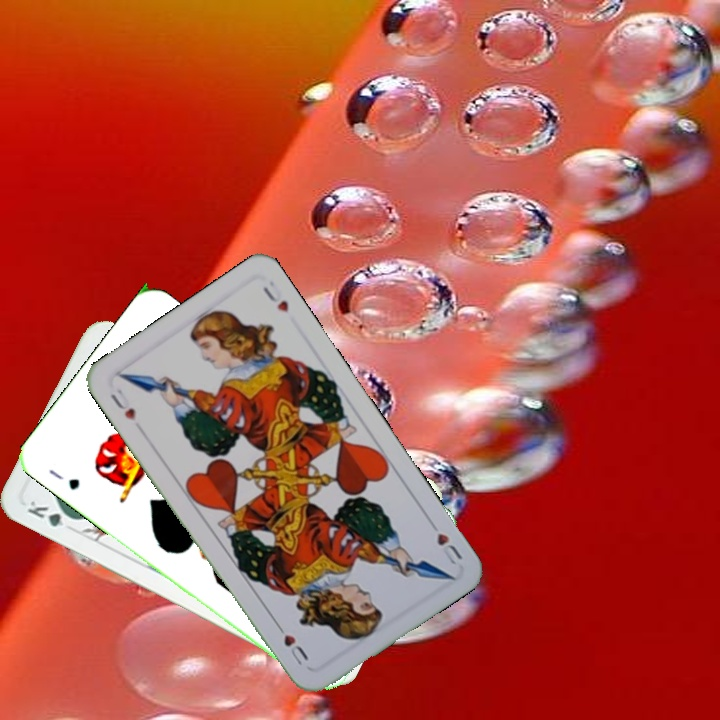GK: (24, 496, 80, 530)
GU: (44, 465, 83, 493)
HU: (424, 515, 465, 568), (106, 384, 139, 424)
